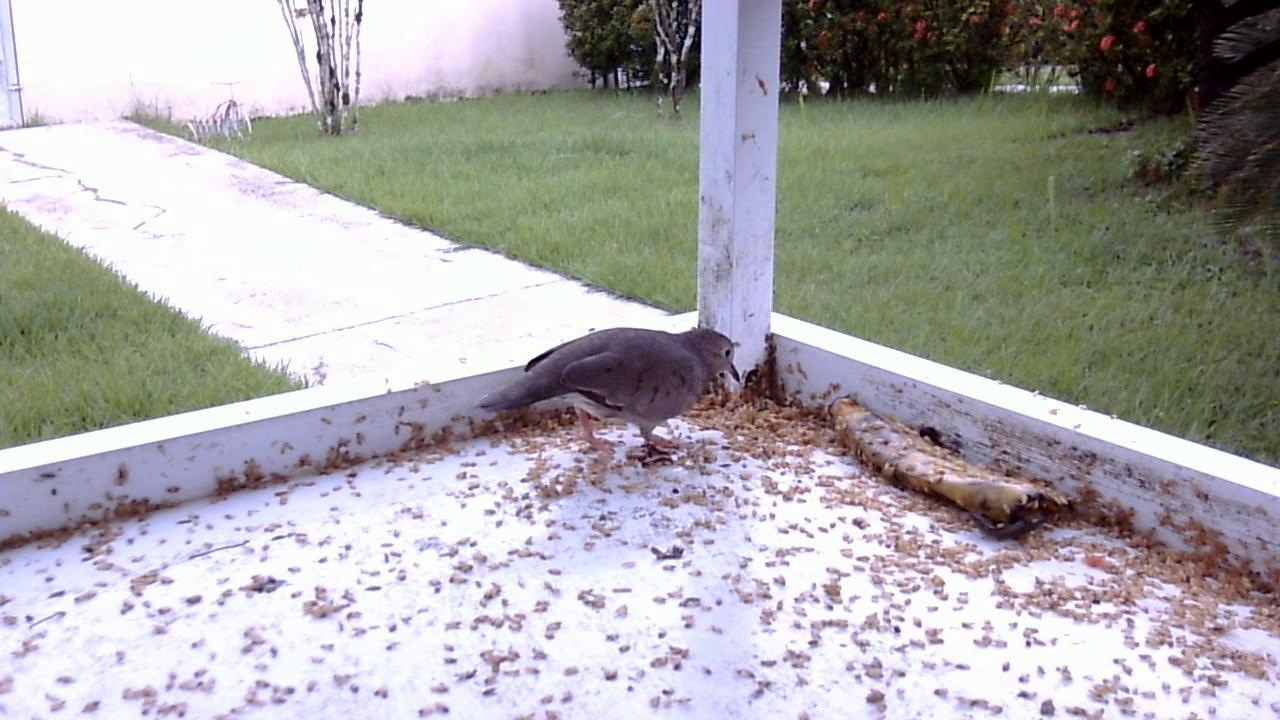rolinha: (479, 311, 745, 475)
